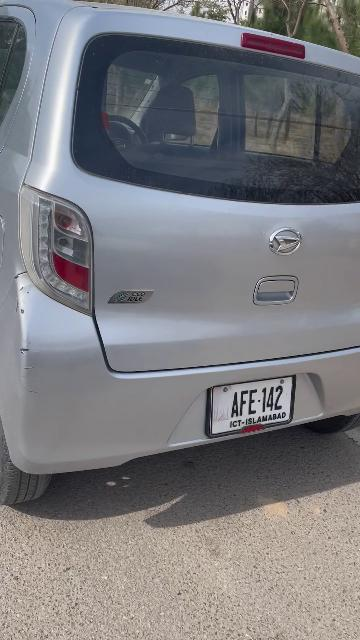plate: (210, 376, 295, 437)
